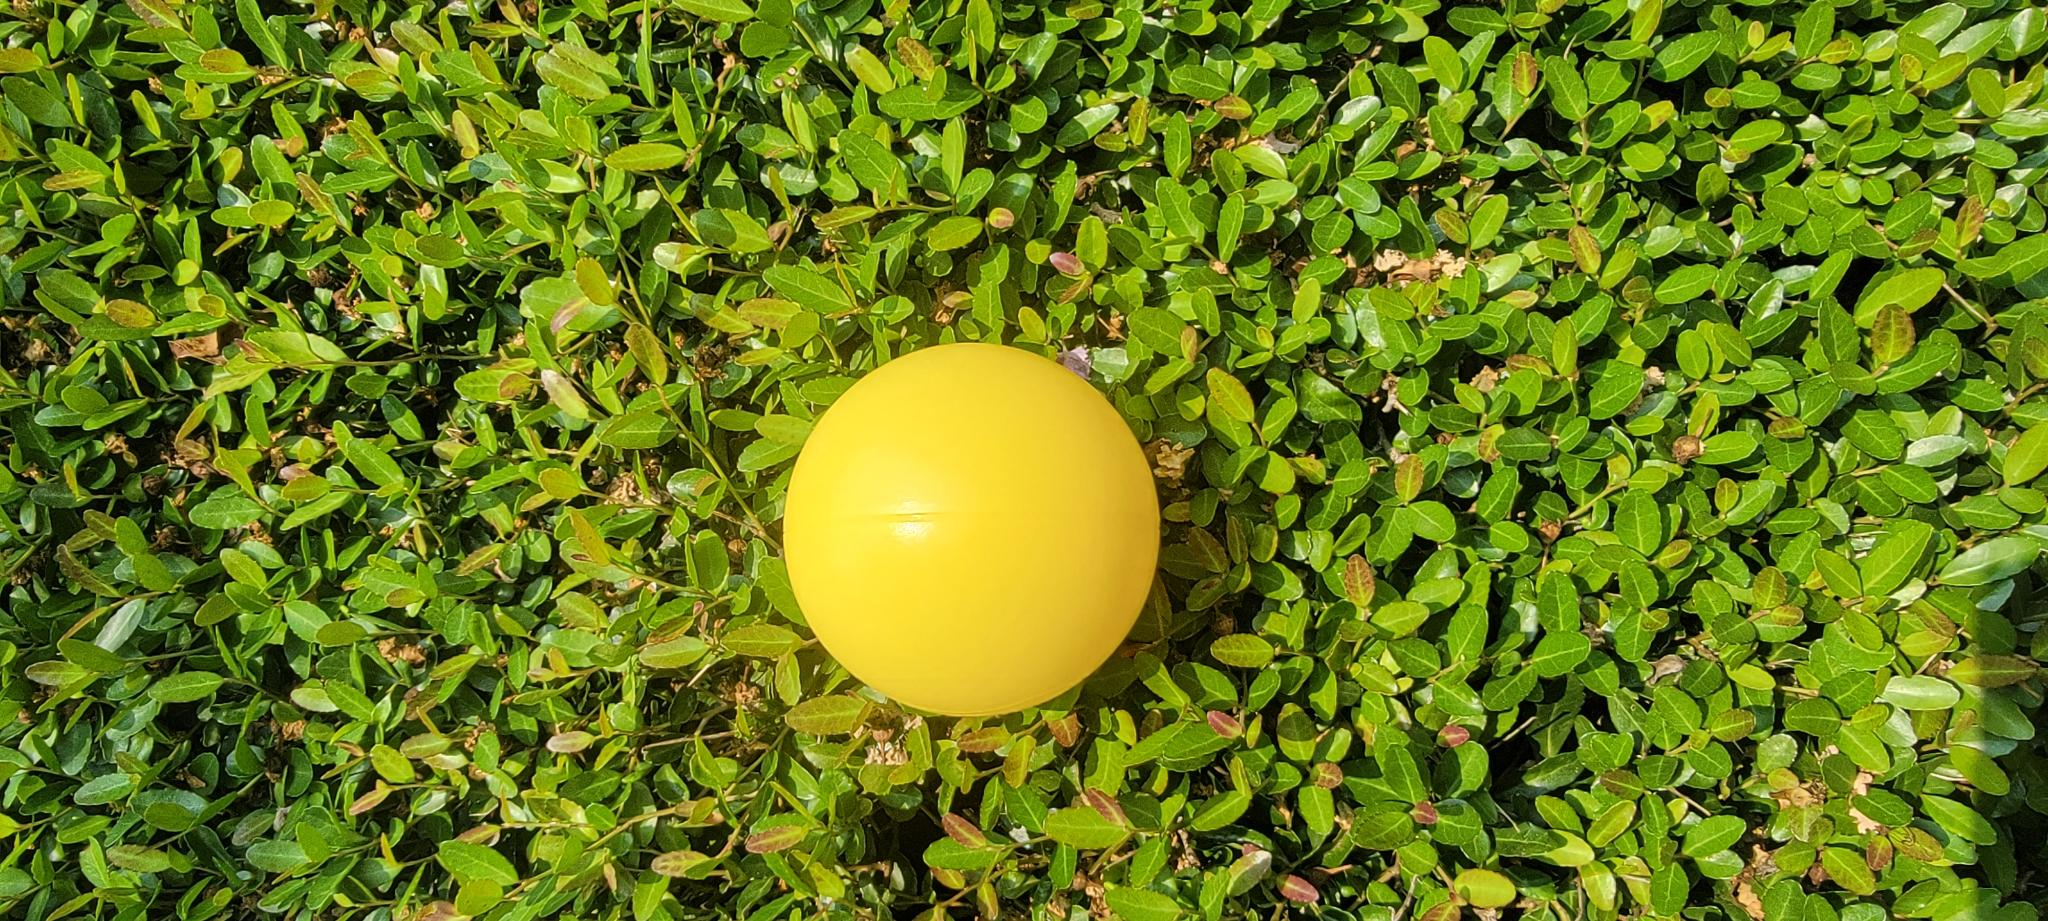Yellow-Ball: (202, 783, 581, 921)
